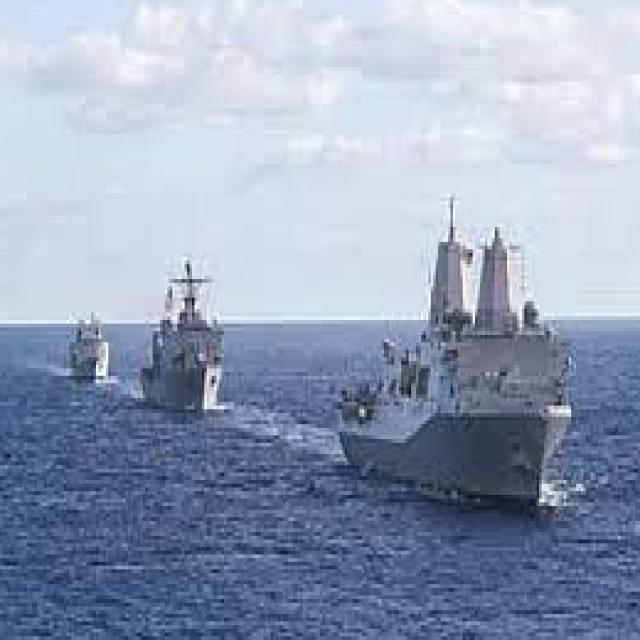navalvessels: (328, 208, 585, 502), (141, 256, 245, 417), (62, 318, 126, 386)
